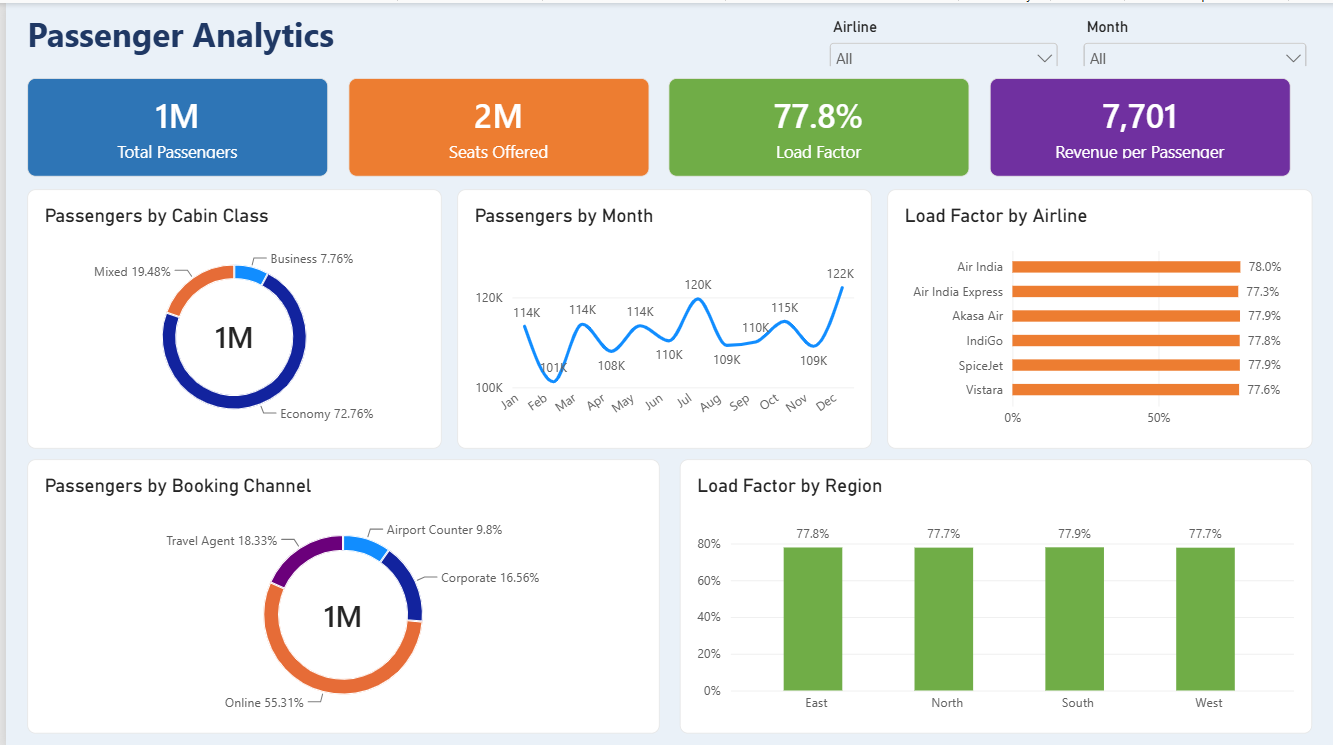

The dashboard page shown, as its layout file describes it:
{"tool":"powerbi","page":{"name":"Passenger Analytics","canvas":[1280,720],"ordinal":4},"visuals":[{"type":"textbox","box":[20,8,700,56],"z":0},{"type":"slicer","fields":{"Values":["Flight_Data.Airline"]},"box":[790,14,230,46],"z":1000},{"type":"slicer","fields":{"Values":["Flight_Data.Month"]},"box":[1035,14,225,46],"z":2000},{"type":"card","fields":{"Values":["Flight_Data.Total Passengers"]},"box":[20,72,290,95],"z":3000},{"type":"card","fields":{"Values":["Flight_Data.Seats Offered"]},"box":[330,72,290,95],"z":4000},{"type":"card","fields":{"Values":["Flight_Data.Load Factor"]},"box":[640,72,290,95],"z":5000},{"type":"card","fields":{"Values":["Flight_Data.Revenue per Passenger"]},"box":[950,72,290,95],"z":6000},{"type":"donutChart","title":"Passengers by Cabin Class","fields":{"Category":["Flight_Data.Cabin_Class"],"Y":["Flight_Data.Total Passengers"]},"box":[20,180,400,250],"z":7000},{"type":"lineChart","title":"Passengers by Month","fields":{"Category":["Flight_Data.Month"],"Y":["Flight_Data.Total Passengers"]},"box":[435,180,400,250],"z":8000},{"type":"clusteredBarChart","title":"Load Factor by Airline","fields":{"Category":["Flight_Data.Airline"],"Y":["Flight_Data.Load Factor"]},"box":[850,180,410,250],"z":9000},{"type":"donutChart","title":"Passengers by Booking Channel","fields":{"Category":["Flight_Data.Booking_Channel"],"Y":["Flight_Data.Total Passengers"]},"box":[20,440,610,265],"z":11000},{"type":"clusteredColumnChart","title":"Load Factor by Region","fields":{"Category":["Flight_Data.Origin_Region"],"Y":["Flight_Data.Load Factor"]},"box":[650,440,610,265],"z":12000}]}

Visuals, with their boxes in screenshot pixels (x1, y1, x2, y2), scaled from the page's 1280x720 canvas onto the 1333x745 screenshot:
textbox: box(21, 8, 750, 66)
slicer - Flight_Data.Airline: box(823, 14, 1062, 62)
slicer - Flight_Data.Month: box(1078, 14, 1312, 62)
card - Flight_Data.Total Passengers: box(21, 74, 323, 173)
card - Flight_Data.Seats Offered: box(344, 74, 646, 173)
card - Flight_Data.Load Factor: box(666, 74, 969, 173)
card - Flight_Data.Revenue per Passenger: box(989, 74, 1291, 173)
"Passengers by Cabin Class" donutChart: box(21, 186, 437, 445)
"Passengers by Month" lineChart: box(453, 186, 870, 445)
"Load Factor by Airline" clusteredBarChart: box(885, 186, 1312, 445)
"Passengers by Booking Channel" donutChart: box(21, 455, 656, 729)
"Load Factor by Region" clusteredColumnChart: box(677, 455, 1312, 729)
